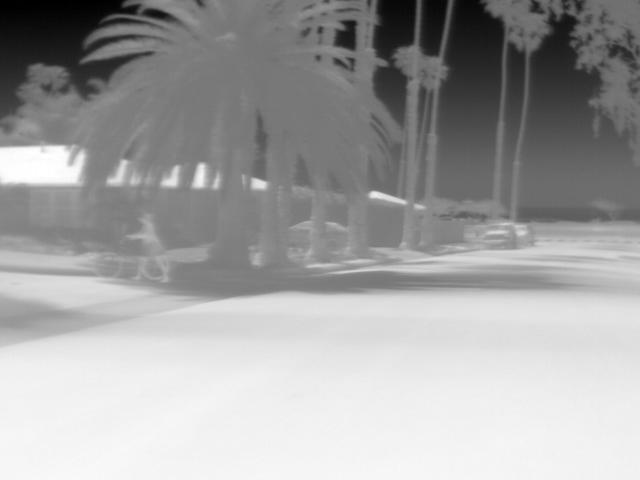car: (482, 222, 516, 250), (326, 220, 349, 252), (288, 220, 311, 248), (514, 222, 534, 250)
person: (132, 213, 170, 283)
